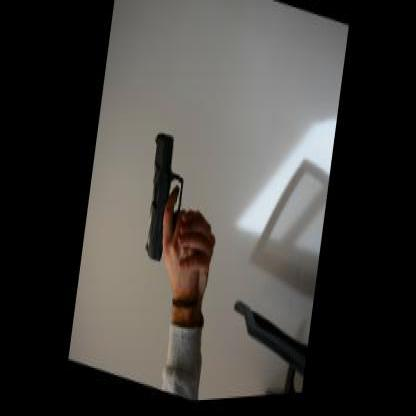pistol: (138, 129, 188, 271)
